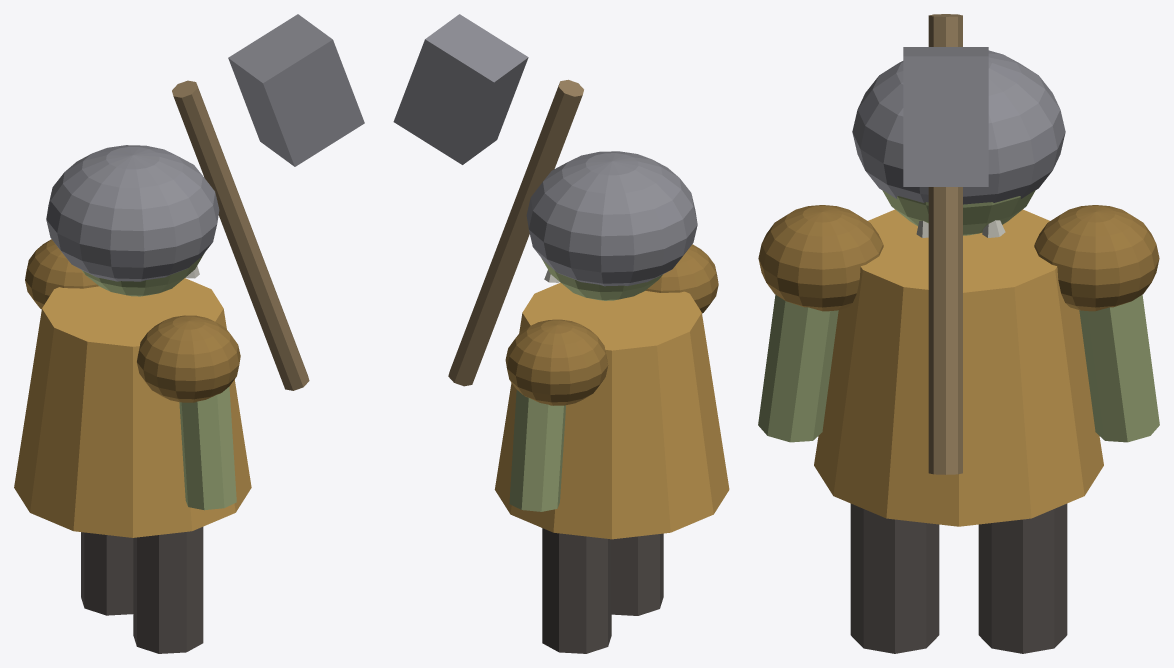
The model's file is hero_durgar_0.glb.
3 renders of one model, left to right at view 1: azimuth 30°, elevation 25°; view 2: azimuth 150°, elevation 25°; view 3: azimuth 270°, elevation 25°, orthographic. The views are drawn at different scales.
Visible parts, largest first — view 1: figurka; view 2: figurka; view 3: figurka.
Part boxes in pixels (<box>): figurka: <box>14,14,364,653</box>; figurka: <box>393,14,729,653</box>; figurka: <box>758,14,1159,653</box>.
Size of the model in its own units: 0.6704 by 1.14 by 0.6121.
